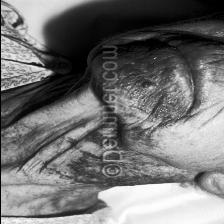Unclassified: (119, 50, 181, 122), (54, 131, 100, 182), (126, 156, 184, 187), (128, 126, 162, 152), (97, 177, 128, 188)
